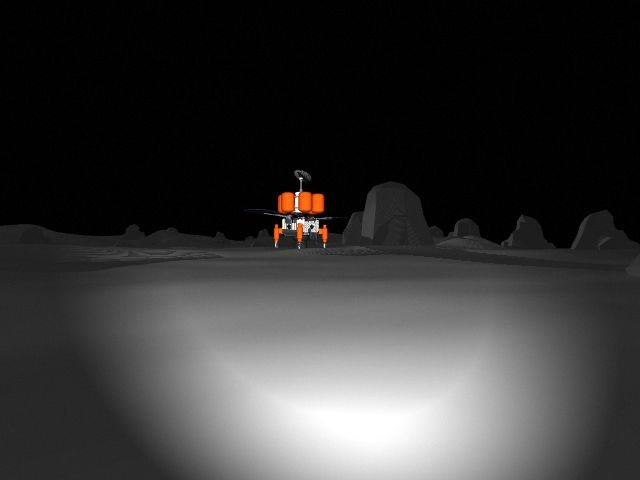homebase: (238, 166, 350, 252)
